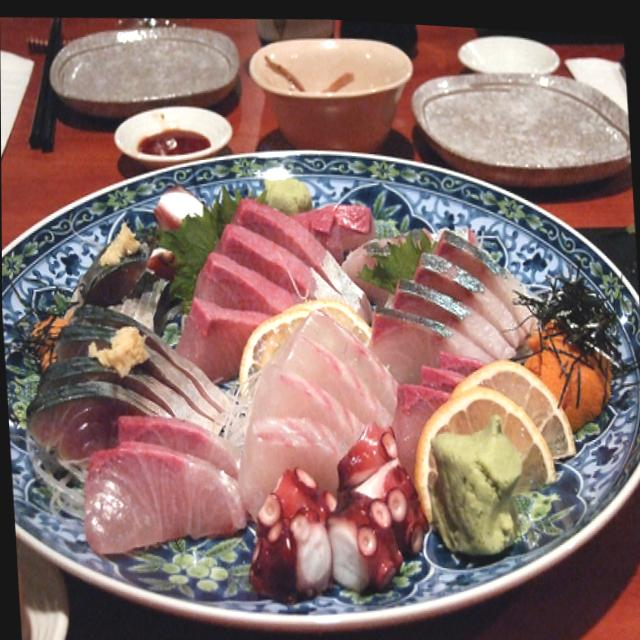刺身生食: (1, 119, 640, 640)
